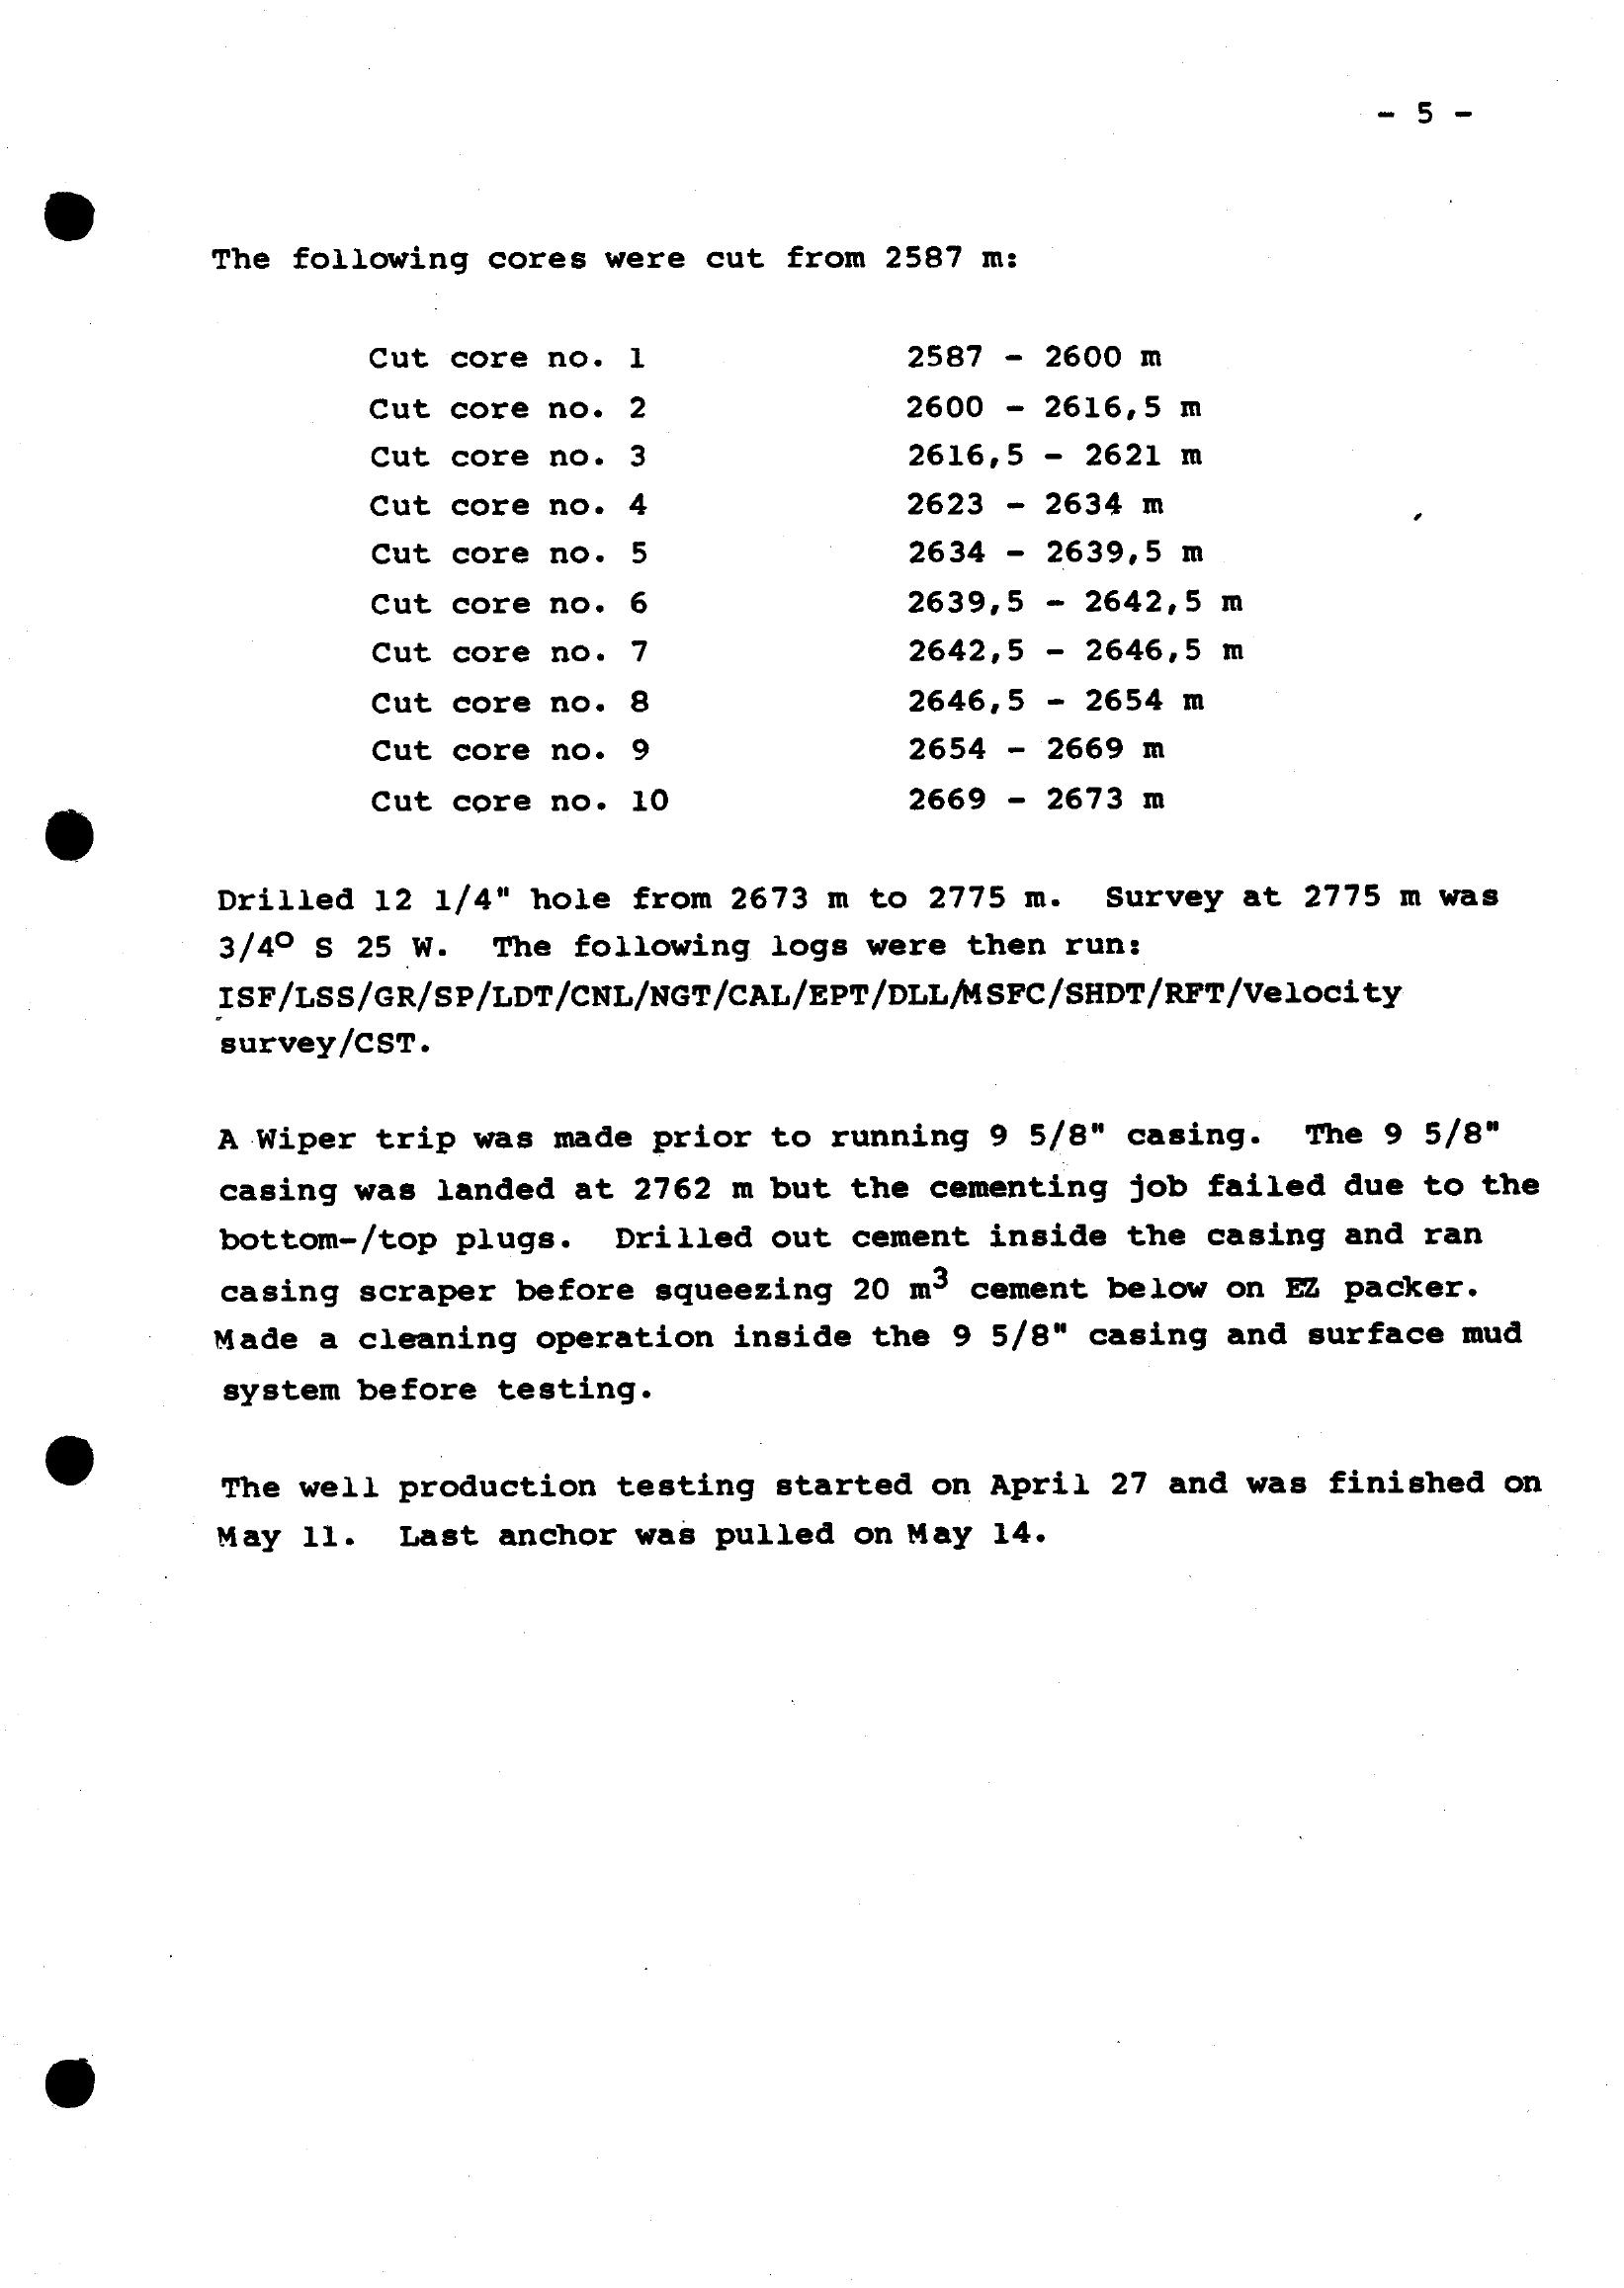text: (169, 213, 1624, 1580)
